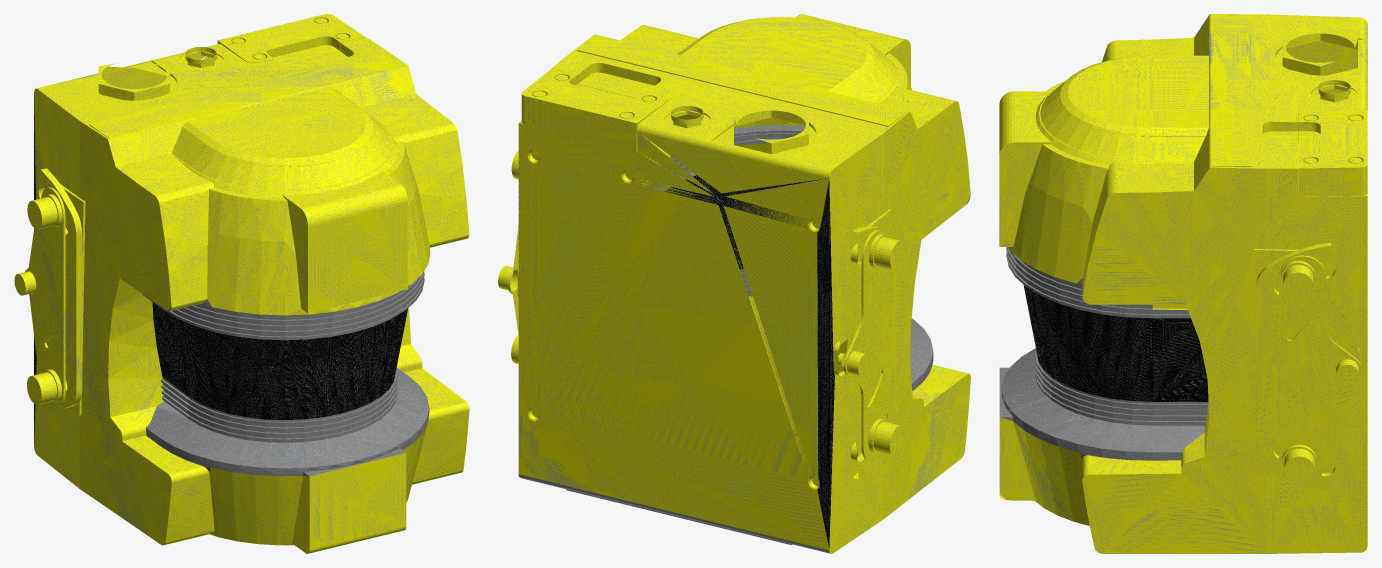
File: scanner.dae
The picture shows the model from 3 angles, left to right: view 1: azimuth 30°, elevation 25°; view 2: azimuth 150°, elevation 25°; view 3: azimuth 270°, elevation 25°; orthographic projection. The views are drawn at different scales.
Visible parts, largest first — view 1: SketchUp (×5); view 2: SketchUp (×6); view 3: SketchUp (×4).
Boxes of the visible parts, x1,y1,x2,y2 form: SketchUp (×5): (14, 14, 469, 553); SketchUp (×6): (498, 14, 970, 553); SketchUp (×4): (999, 14, 1367, 553).
Bounding box in the file's own units: 7.75 × 6.54 × 7.76.
